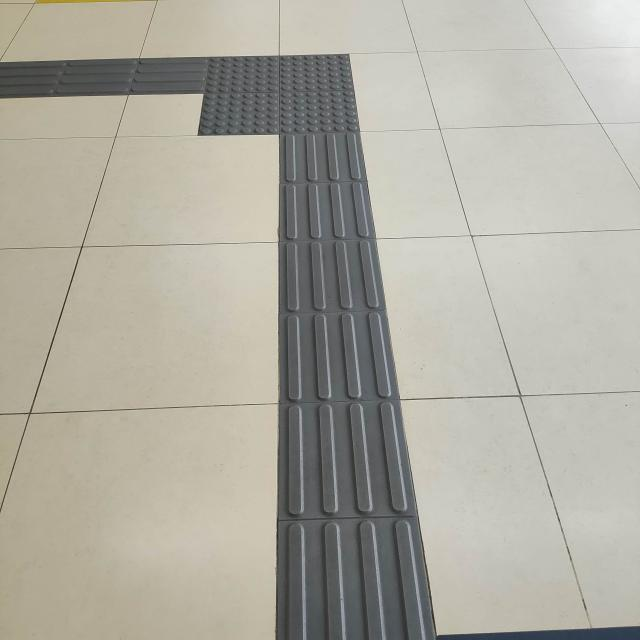kiri: (136, 30, 390, 164)
